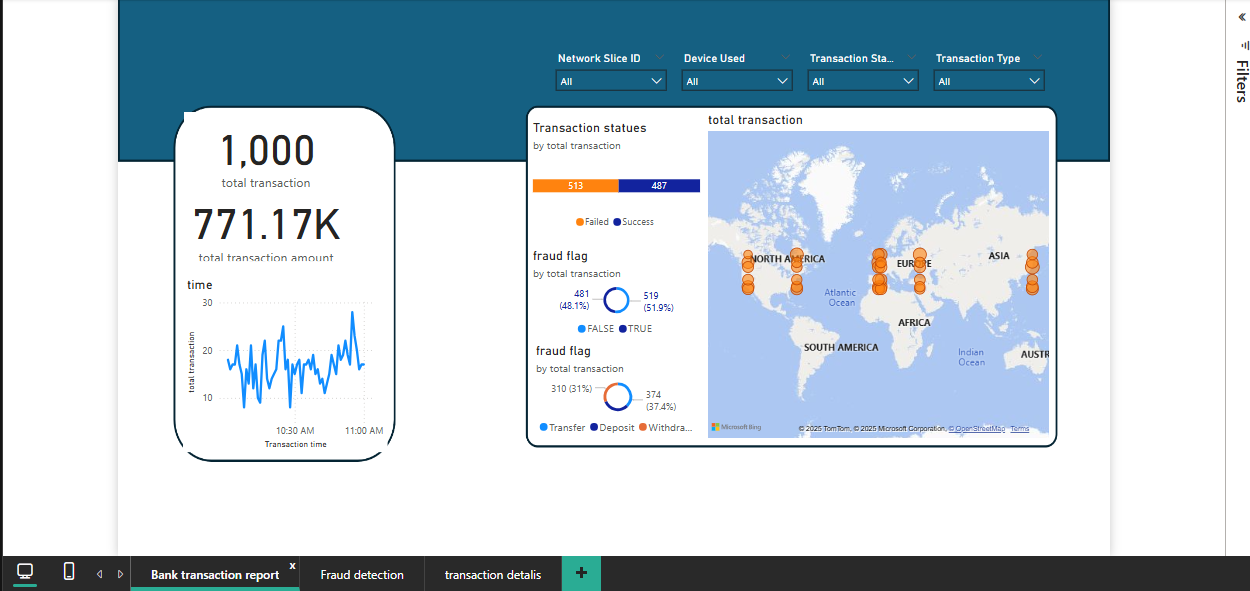

This screenshot's page, from the dashboard's own definition file:
{"tool":"powerbi","page":{"name":"Bank transaction report","canvas":[1280,720],"ordinal":0},"visuals":[{"type":"card","fields":{"Values":["bank transaction_data.total transaction"]},"box":[85,146.7,211.7,105],"z":0},{"type":"card","fields":{"Values":["bank transaction_data.total transaction amount"]},"box":[85,246.7,211.7,98.3],"z":1000},{"type":"barChart","title":"Transaction statues","fields":{"Y":["bank transaction_data.total transaction"],"Series":["bank transaction_data.Transaction Status"]},"box":[530,157.1,225.7,150],"z":2000},{"type":"donutChart","title":"fraud flag","fields":{"Y":["bank transaction_data.total transaction"],"Category":["bank transaction_data.Fraud Flag"]},"box":[530,322.9,225.7,122.9],"z":3000},{"type":"donutChart","title":"fraud flag","fields":{"Y":["bank transaction_data.total transaction"],"Category":["bank transaction_data.Transaction Type"]},"box":[534.3,445.7,221.4,127.1],"z":4000},{"type":"map","title":"total transaction ","fields":{"Size":["bank transaction_data.total transaction"],"Y":["bank transaction_data.Latitude value"],"X":["bank transaction_data.Longitude value"]},"box":[755.7,147.1,450,425.7],"z":5000},{"type":"slicer","fields":{"Values":["bank transaction_data.Transaction Type"]},"box":[1042.9,64.3,162.9,71.4],"z":6000},{"type":"slicer","fields":{"Values":["bank transaction_data.Transaction Status"]},"box":[880,64.3,162.9,71.4],"z":7000},{"type":"slicer","fields":{"Values":["bank transaction_data.Network Slice ID"]},"box":[554.3,64.3,162.9,71.4],"z":8000},{"type":"slicer","fields":{"Values":["bank transaction_data.Device Used"]},"box":[717.1,64.3,162.9,71.4],"z":9000},{"type":"lineChart","title":"time","fields":{"Y":["bank transaction_data.total transaction"],"Category":["bank transaction_data.Transaction  time"]},"box":[84.3,360,264.3,225.7],"z":10000}]}

Visuals, with their boxes on the page's 1280x720 design canvas (x1, y1, x2, y2). These are canvas units, not pixel positions in the 1250x591 screenshot, which may show the page scaled, cropped or inside an application window:
card - bank transaction_data.total transaction: x1=85, y1=147, x2=297, y2=252
card - bank transaction_data.total transaction amount: x1=85, y1=247, x2=297, y2=345
"Transaction statues" barChart: x1=530, y1=157, x2=756, y2=307
"fraud flag" donutChart: x1=530, y1=323, x2=756, y2=446
"fraud flag" donutChart: x1=534, y1=446, x2=756, y2=573
"total transaction " map: x1=756, y1=147, x2=1206, y2=573
slicer - bank transaction_data.Transaction Type: x1=1043, y1=64, x2=1206, y2=136
slicer - bank transaction_data.Transaction Status: x1=880, y1=64, x2=1043, y2=136
slicer - bank transaction_data.Network Slice ID: x1=554, y1=64, x2=717, y2=136
slicer - bank transaction_data.Device Used: x1=717, y1=64, x2=880, y2=136
"time" lineChart: x1=84, y1=360, x2=349, y2=586
